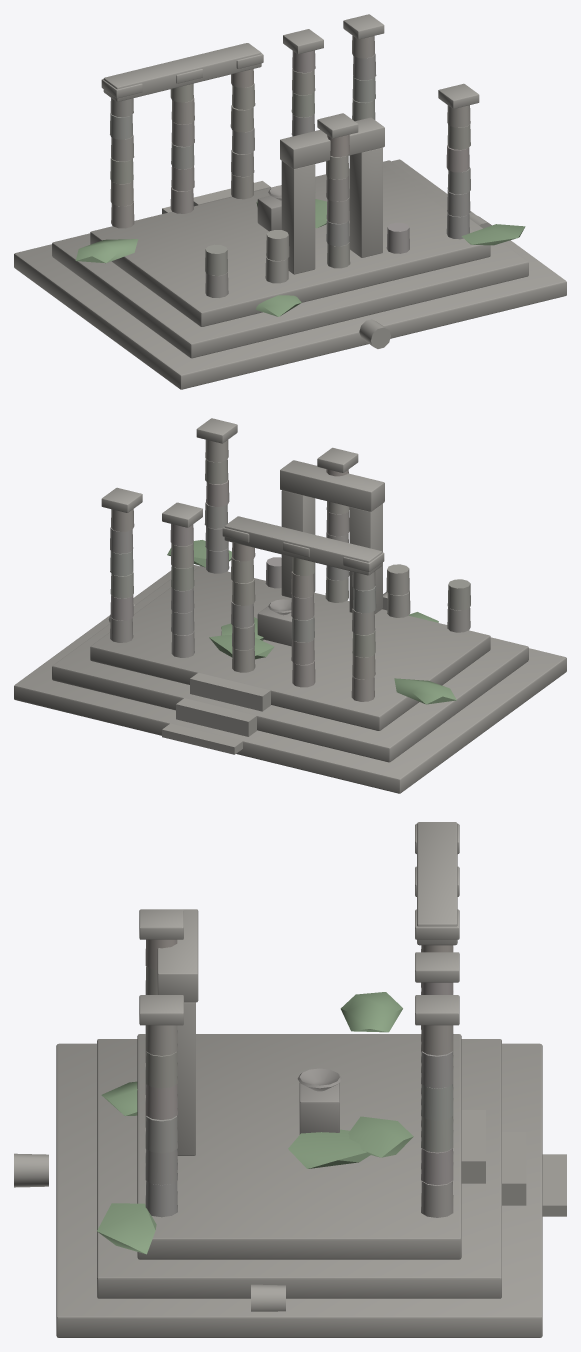
File: ruins_temple.gltf
3 views of the same model, one above another, from view 1: azimuth 30°, elevation 25°; view 2: azimuth 150°, elevation 25°; view 3: azimuth 270°, elevation 25° (orthographic). The views are drawn at different scales.
Parts seen in each view (by area): view 1: Body; view 2: Body; view 3: Body.
Boxes of the visible parts, x1=… form: Body: x1=14, y1=14, x2=566, y2=389; Body: x1=14, y1=418, x2=566, y2=793; Body: x1=14, y1=822, x2=566, y2=1337.
Size of the model in its own units: 16 by 7.8 by 13.64.
